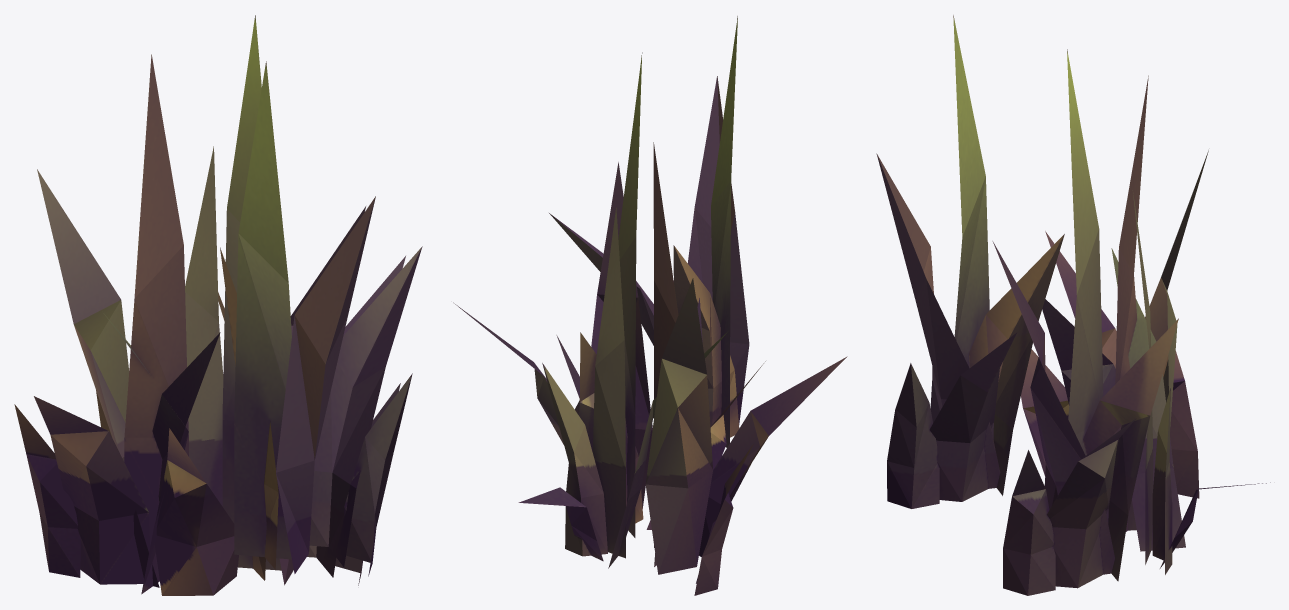
File: grass-1.glb
The picture shows the model from 3 angles, left to right: view 1: azimuth 30°, elevation 25°; view 2: azimuth 150°, elevation 25°; view 3: azimuth 270°, elevation 25°; orthographic projection. The views are drawn at different scales.
Parts seen in each view (by area): view 1: grass-1; view 2: grass-1; view 3: grass-1.
Boxes of the visible parts, bbox=[...] form: grass-1: bbox=[14, 15, 422, 595]; grass-1: bbox=[453, 16, 847, 595]; grass-1: bbox=[876, 15, 1270, 595].
Bounding box in the file's own units: 0.4436 × 0.5767 × 0.3991.
Materials: 1 (1 with a texture image).
